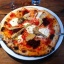pizza: (1, 9, 58, 54)
